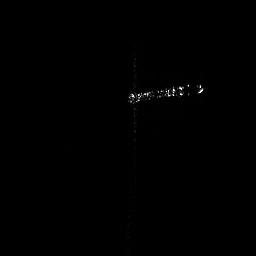ship: (129, 55, 206, 144)
